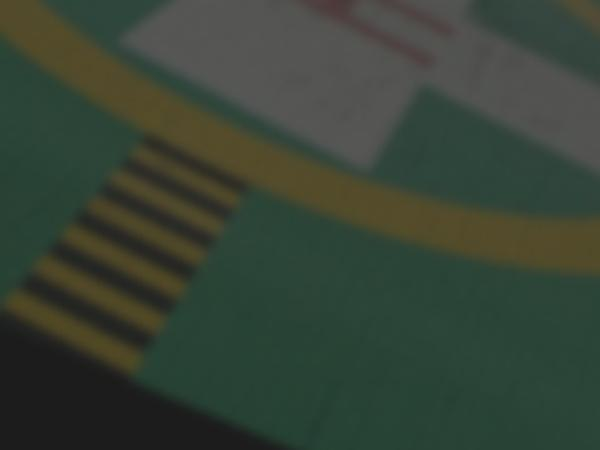Apron: (1, 1, 599, 288)
